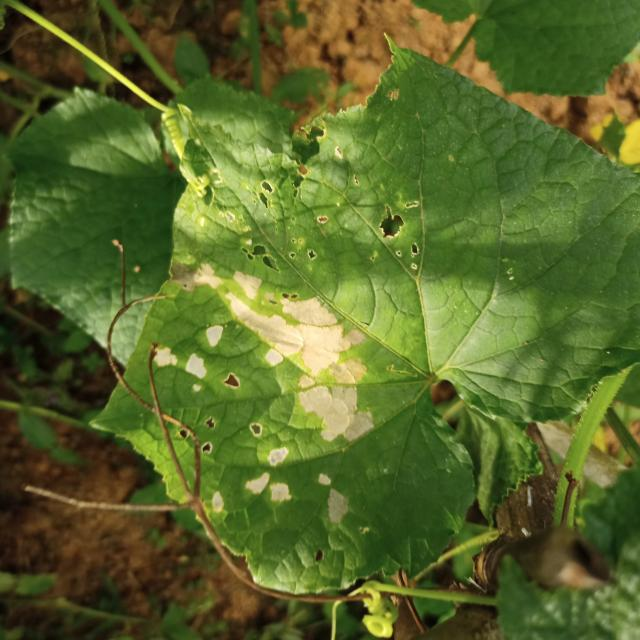disease_cucumber: (153, 258, 380, 532)
